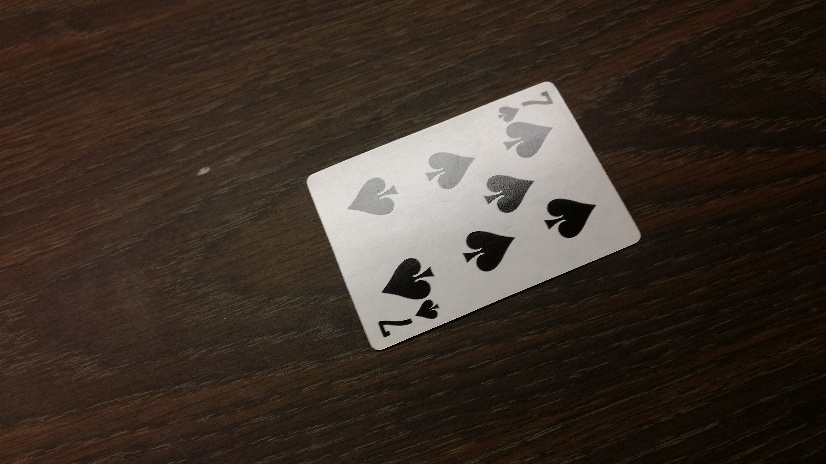S7: (374, 299, 441, 338), (497, 91, 554, 125)
